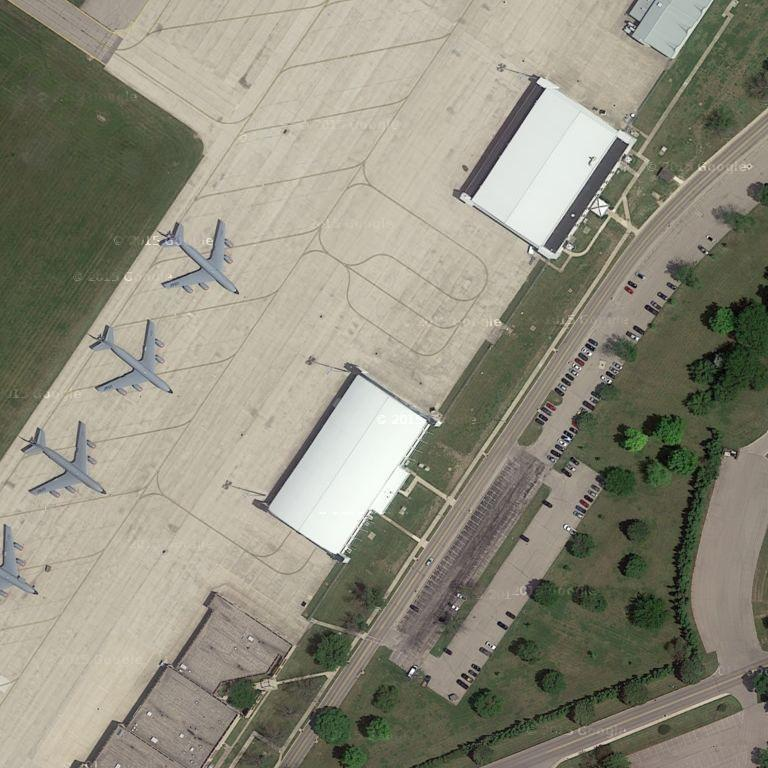KC-135: (153, 216, 244, 299), (88, 318, 180, 399), (18, 421, 111, 501)
